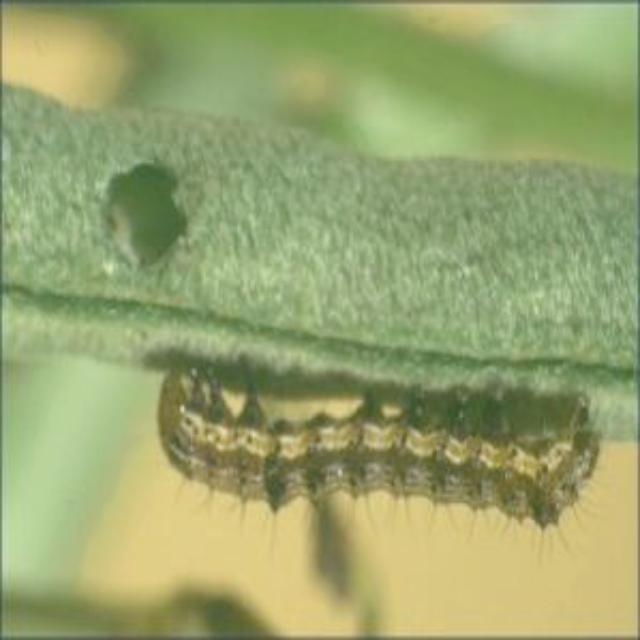Cotton bollworm: (127, 342, 625, 558)
